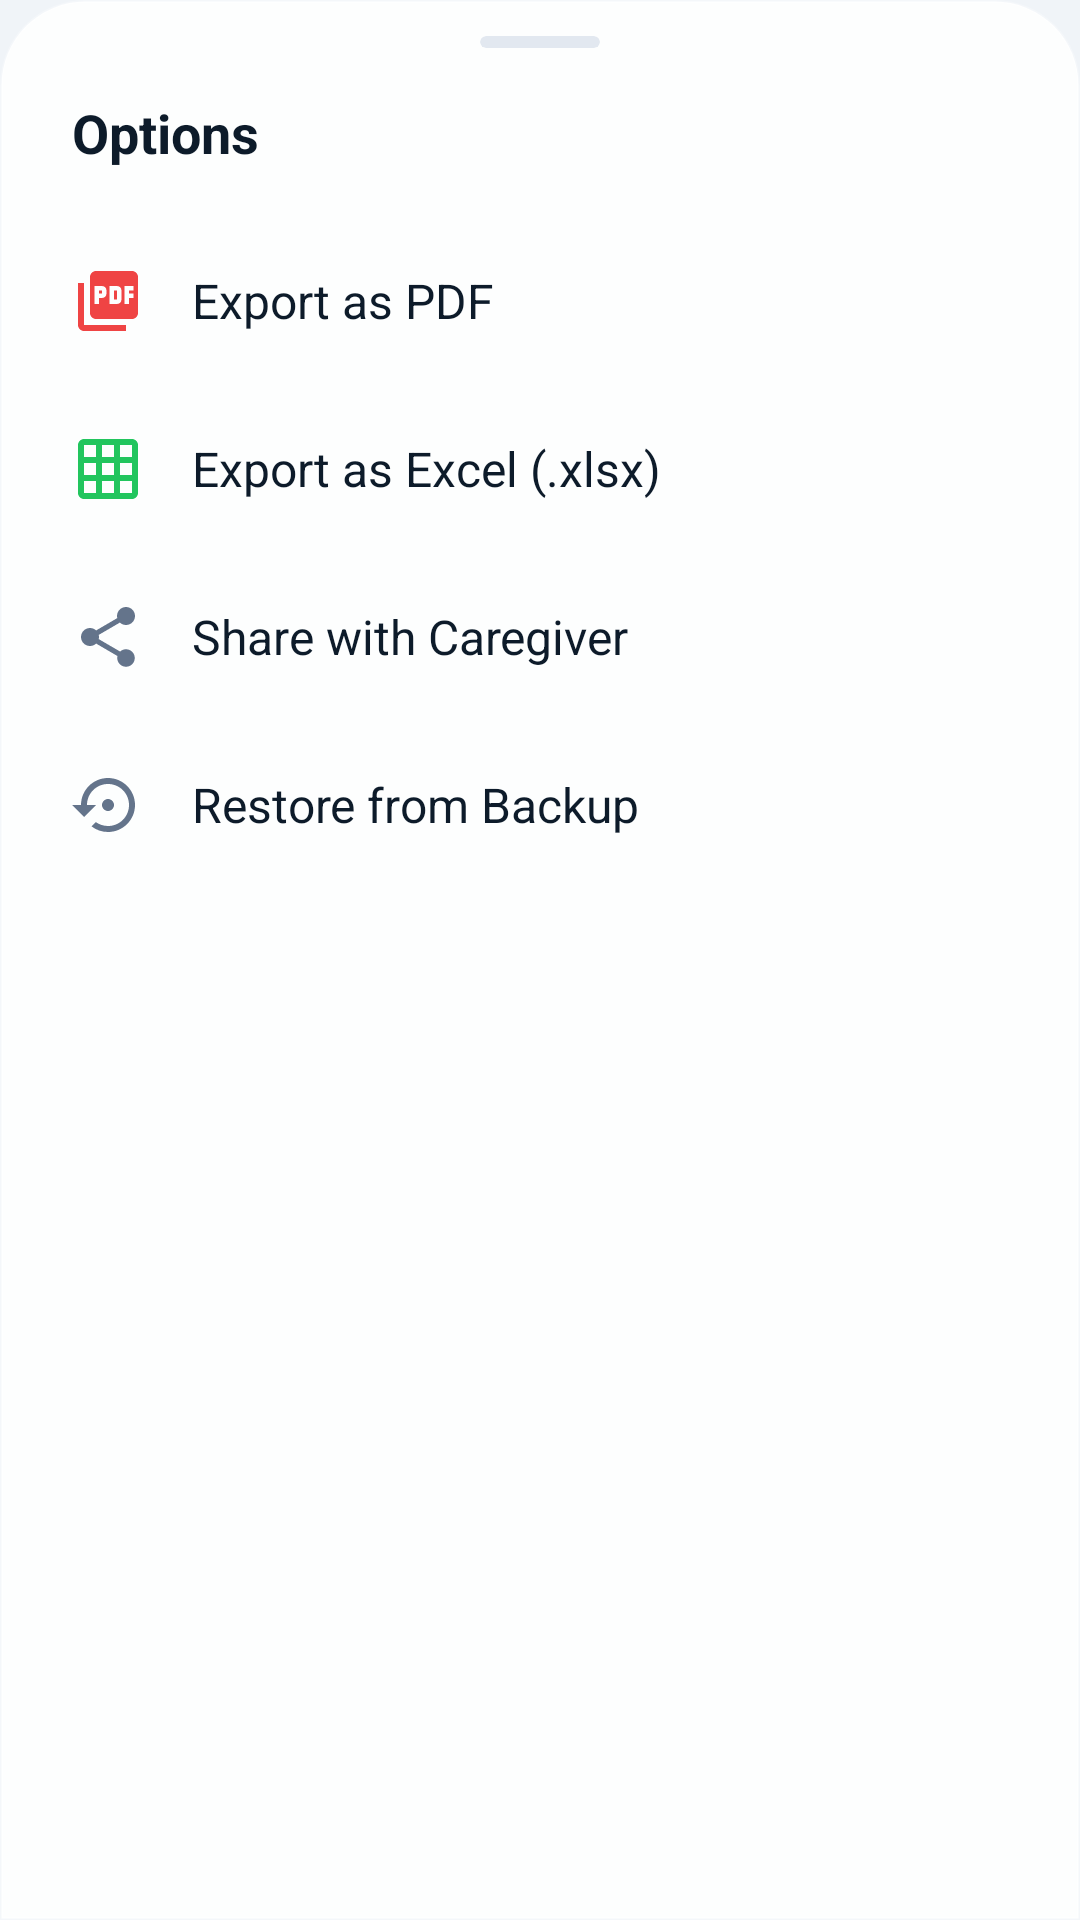

Where icons sit on this 1080px x 1920px app screen, as (x1, y1, x2, y2):
share modern: (81, 607, 135, 667)
